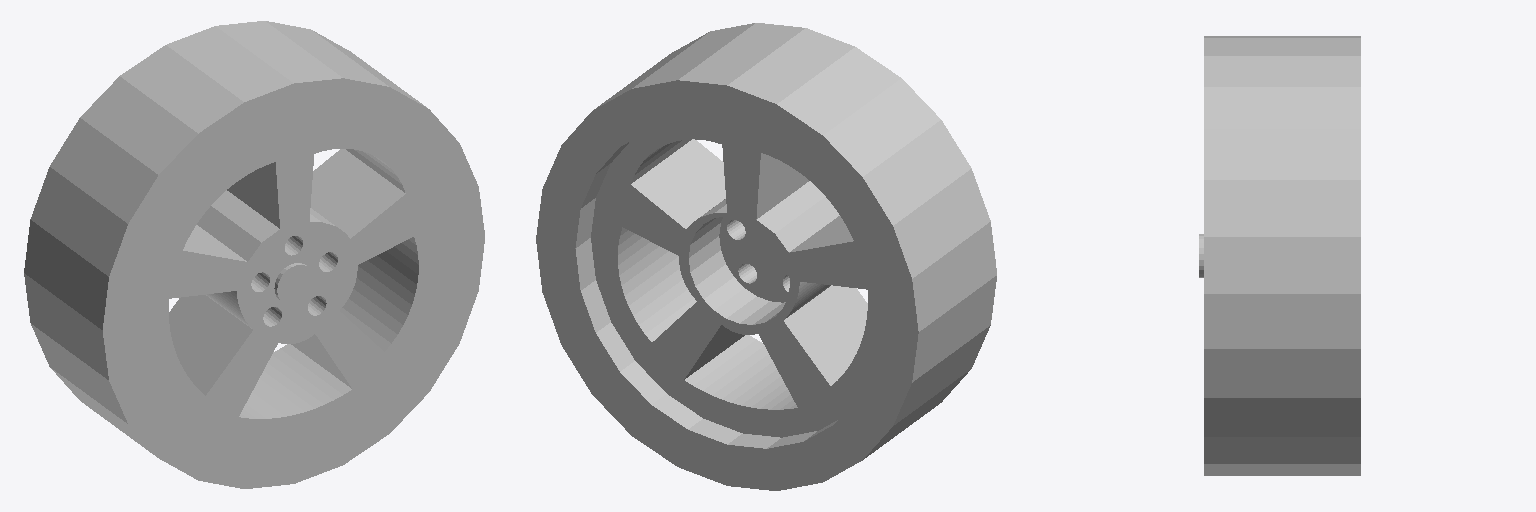
File: tire_fromblender.obj
3 renders of one model, left to right at view 1: azimuth 30°, elevation 25°; view 2: azimuth 150°, elevation 25°; view 3: azimuth 270°, elevation 25°, orthographic.
Parts seen in each view (by area): view 1: group_0.012_ID80, group_0_ID4, group_0.004_ID32, group_0.005_ID38, group_0.008_ID56, group_0.002_ID20, group_0.011_ID74, group_0.015_ID100; view 2: group_0.012_ID80, group_0.014_ID94, group_0.009_ID62, group_0.013_ID88, group_0_ID4, group_0.004_ID32, group_0.005_ID38, group_0.008_ID56, group_0.002_ID20, group_0.015_ID100; view 3: group_0.012_ID80.
Part boxes in pixels (left/top/right/bottom): group_0.012_ID80: left=24, top=21, right=484, bottom=488; group_0_ID4: left=310, top=149, right=405, bottom=238; group_0.004_ID32: left=183, top=162, right=279, bottom=261; group_0.005_ID38: left=169, top=291, right=252, bottom=395; group_0.008_ID56: left=340, top=237, right=418, bottom=351; group_0.002_ID20: left=239, top=344, right=351, bottom=418; group_0.011_ID74: left=274, top=263, right=315, bottom=306; group_0.015_ID100: left=291, top=334, right=351, bottom=388; group_0.012_ID80: left=536, top=23, right=996, bottom=490; group_0.014_ID94: left=591, top=123, right=878, bottom=437; group_0.009_ID62: left=689, top=216, right=788, bottom=324; group_0.013_ID88: left=575, top=142, right=837, bottom=448; group_0_ID4: left=631, top=139, right=726, bottom=228; group_0.004_ID32: left=756, top=153, right=853, bottom=252; group_0.005_ID38: left=784, top=282, right=867, bottom=385; group_0.008_ID56: left=618, top=227, right=696, bottom=341; group_0.002_ID20: left=685, top=335, right=797, bottom=409; group_0.015_ID100: left=684, top=325, right=744, bottom=379; group_0.012_ID80: left=1204, top=36, right=1360, bottom=475.
Size of the model in its own units: 0.7789 by 0.7789 by 0.2868.